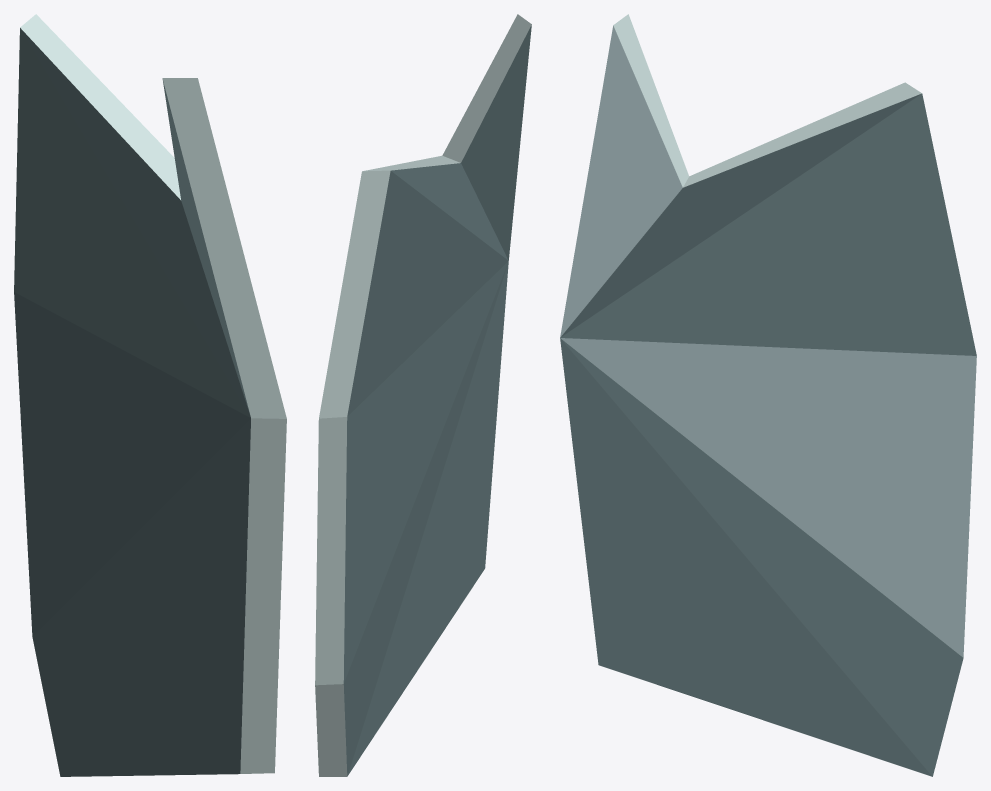
File: vodka_bottle_piece_side.glb
3 views of the same model, side by side, from view 1: azimuth 30°, elevation 25°; view 2: azimuth 150°, elevation 25°; view 3: azimuth 270°, elevation 25° (orthographic). The views are drawn at different scales.
Parts seen in each view (by area): view 1: Curved solid jagged glass.005; view 2: Curved solid jagged glass.005; view 3: Curved solid jagged glass.005.
Boxes of the visible parts, left/top/right/bottom form: Curved solid jagged glass.005: left=14, top=14, right=286, bottom=776; Curved solid jagged glass.005: left=315, top=14, right=531, bottom=776; Curved solid jagged glass.005: left=560, top=14, right=976, bottom=776.
Bounding box in the file's own units: 0.0113 × 0.0946 × 0.0493.
